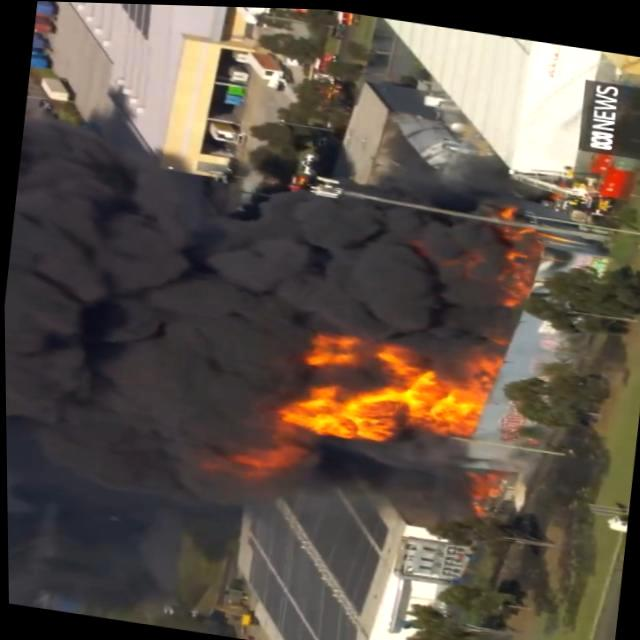fire: (256, 314, 494, 470), (225, 426, 307, 482)
